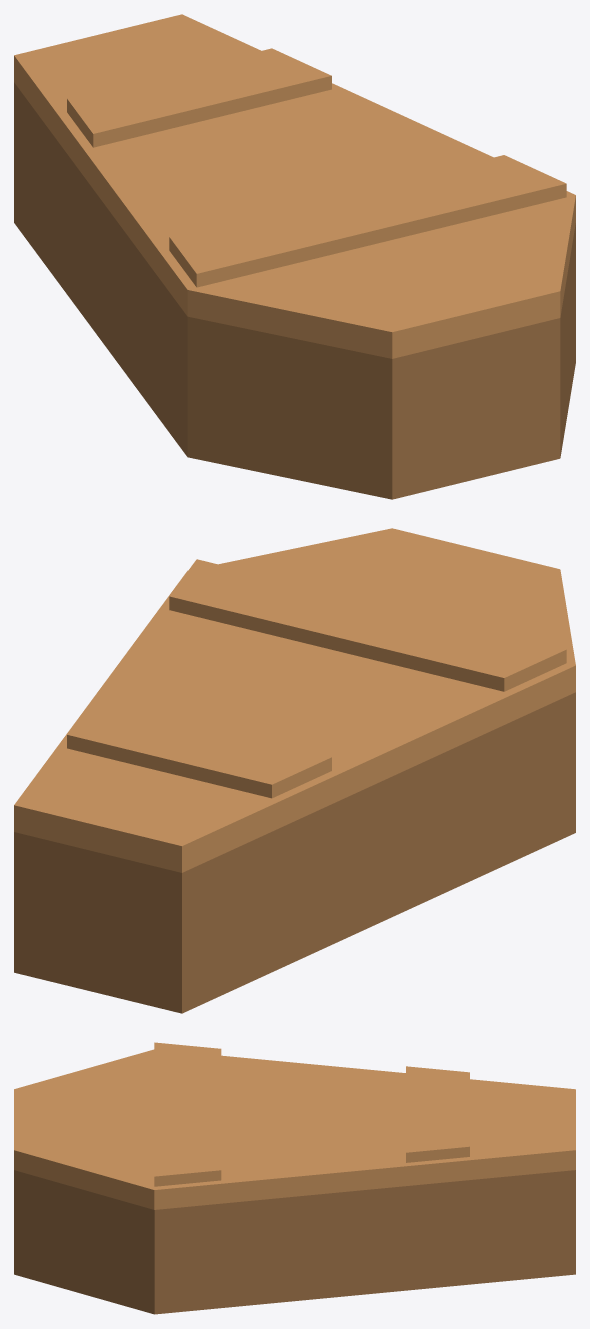
The model's file is coffin.fbx.
3 renders of one model, top to bottom at view 1: azimuth 30°, elevation 25°; view 2: azimuth 150°, elevation 25°; view 3: azimuth 270°, elevation 25°, orthographic. The views are drawn at different scales.
Visible parts, largest first — view 1: coffinLid, coffin; view 2: coffinLid, coffin; view 3: coffinLid, coffin.
Boxes of the visible parts, bbox=[...] form: coffinLid: bbox=[14, 14, 575, 358]; coffin: bbox=[14, 82, 575, 499]; coffinLid: bbox=[14, 528, 575, 872]; coffin: bbox=[14, 692, 575, 1013]; coffinLid: bbox=[14, 1042, 575, 1209]; coffin: bbox=[14, 1170, 575, 1314].
Size of the model in its own units: 5.93 by 2.64 by 10.
